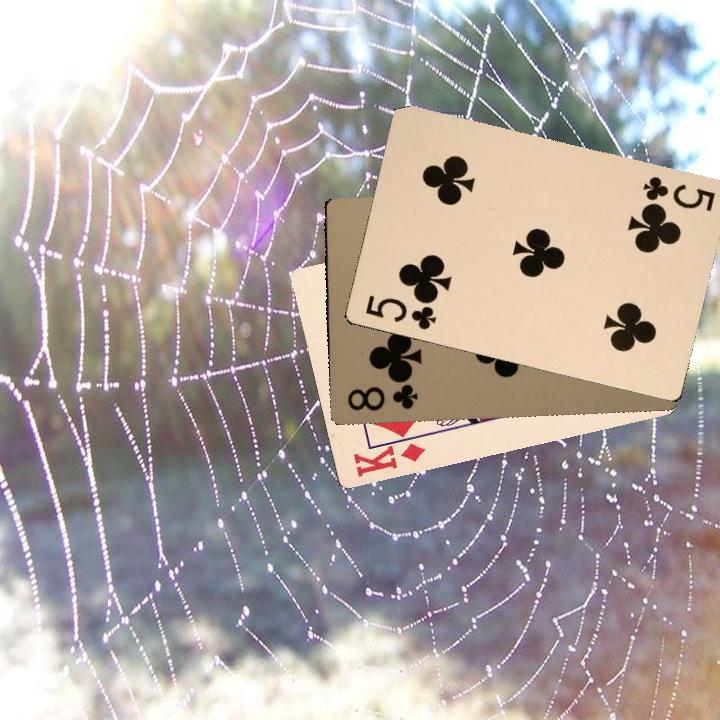5c: (638, 172, 717, 214), (361, 291, 439, 332)
8c: (344, 377, 421, 414)
Kd: (349, 430, 426, 480)
